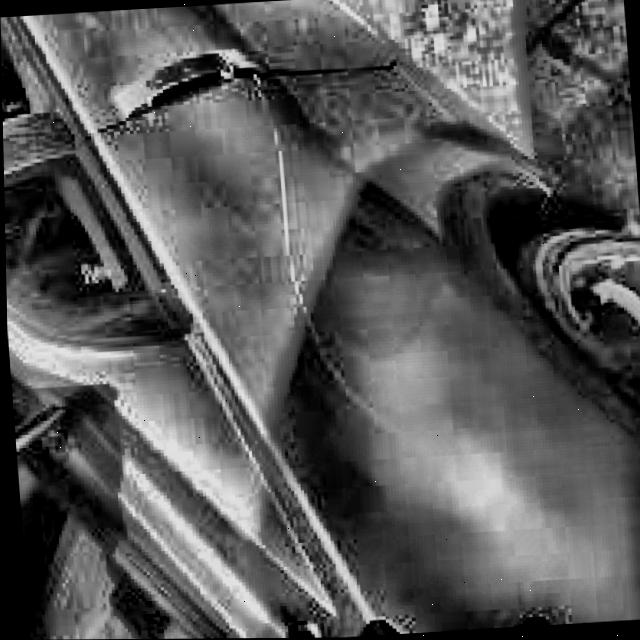door_scratch: (235, 114, 392, 428)
